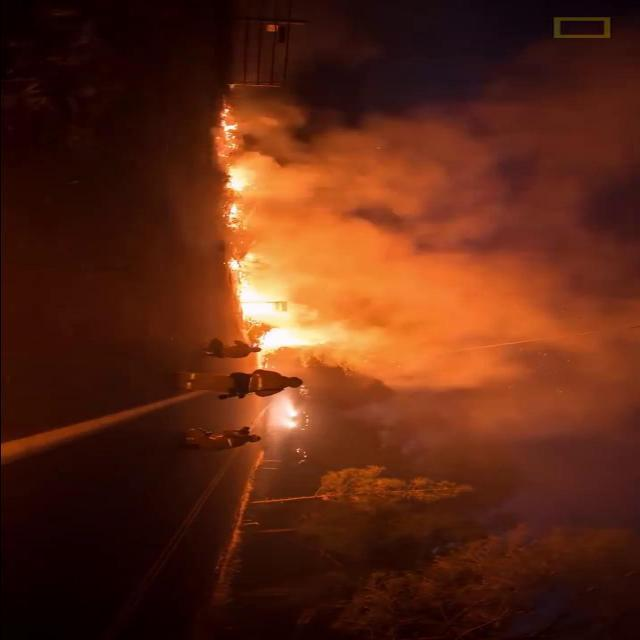Fire: (227, 252, 325, 364), (216, 106, 243, 140), (220, 165, 252, 193), (222, 204, 246, 228)
